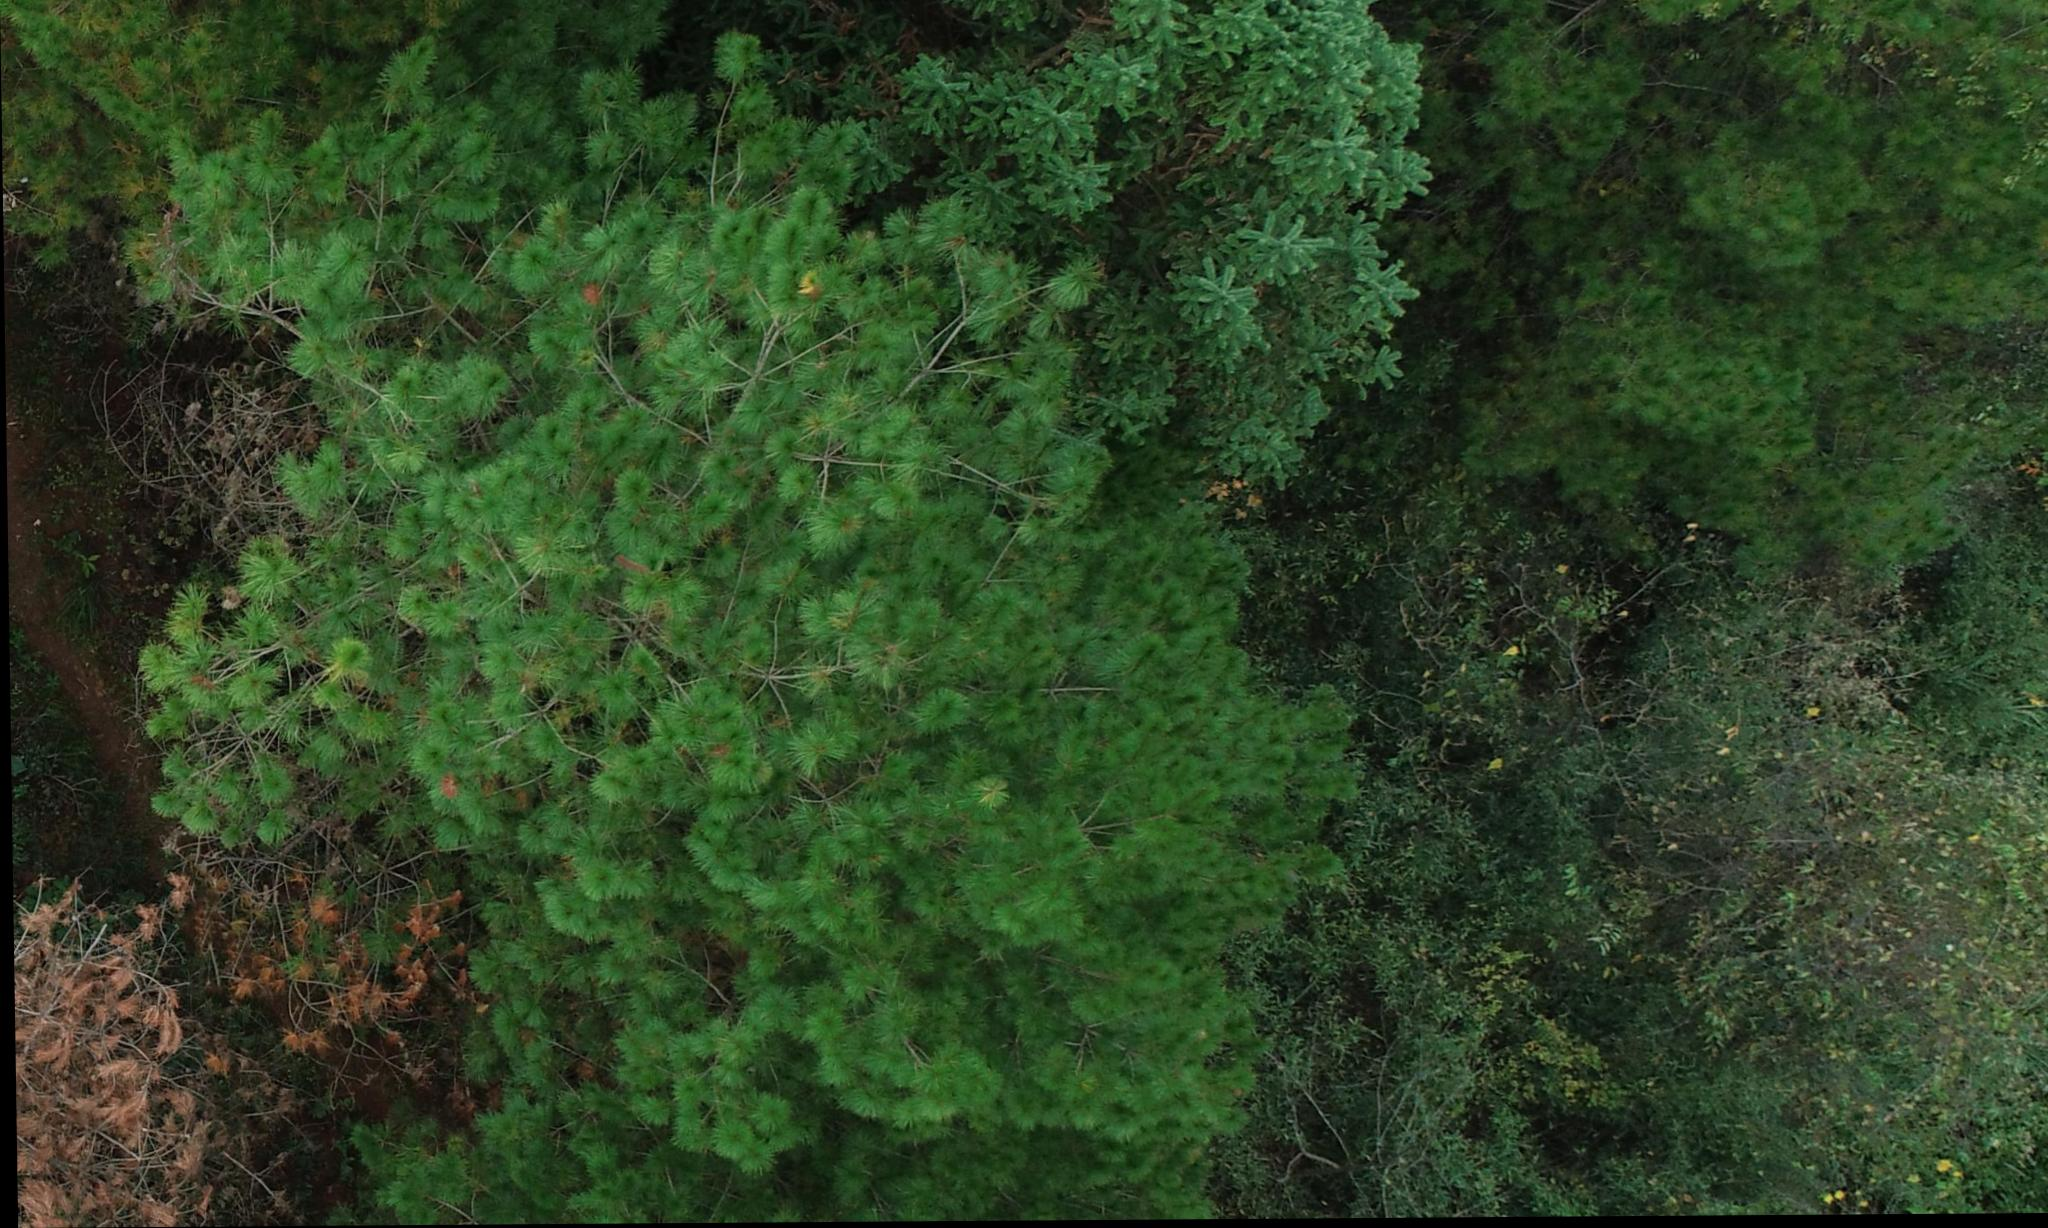heavy: (10, 884, 222, 1228)
